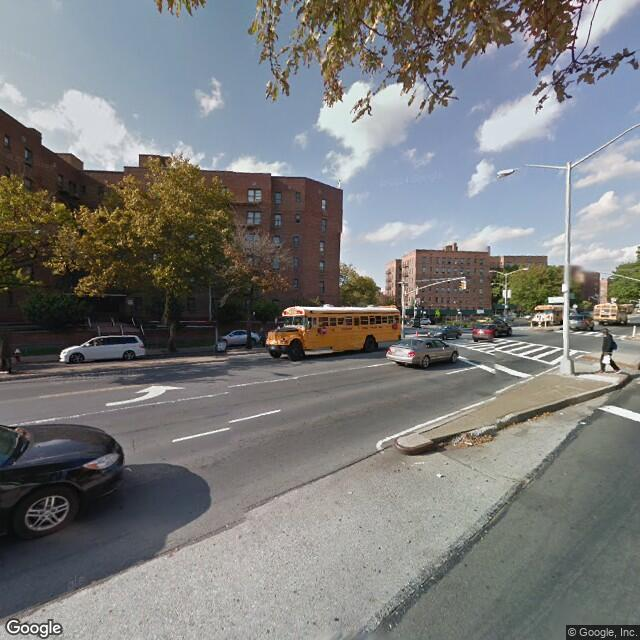litter: (439, 433, 509, 450)
